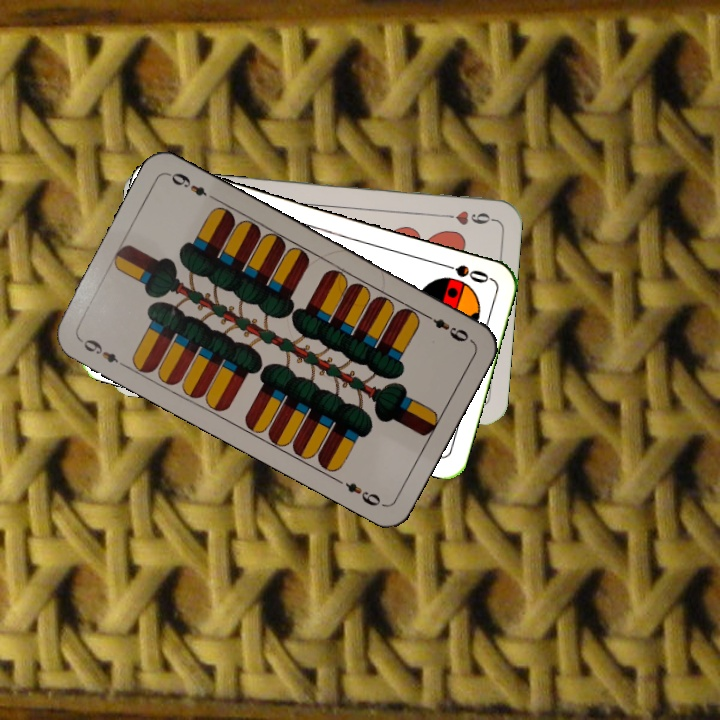E9: (77, 335, 130, 371), (420, 309, 472, 345)
H9: (437, 206, 496, 227)
SO: (435, 258, 493, 286)
